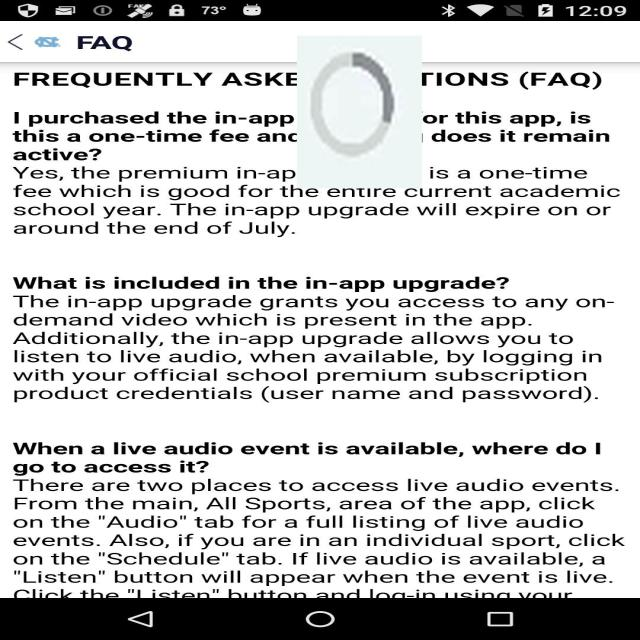misdirection: (297, 36, 422, 188)
